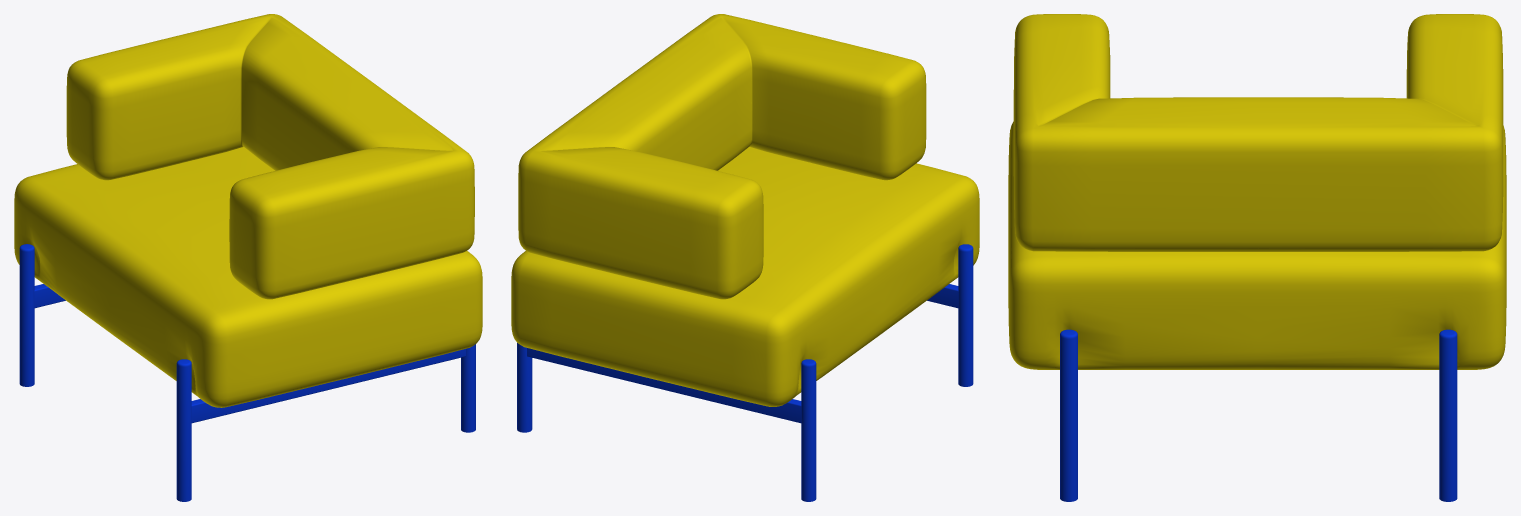
The model's file is Short Sofa.fbx.
The picture shows the model from 3 angles, left to right: view 1: azimuth 30°, elevation 25°; view 2: azimuth 150°, elevation 25°; view 3: azimuth 270°, elevation 25°; orthographic projection. The views are drawn at different scales.
Parts seen in each view (by area): view 1: sofa1_.001; view 2: sofa1_.001; view 3: sofa1_.001.
Boxes of the visible parts, x1,y1,x2,y2 form: sofa1_.001: (14, 14, 482, 501); sofa1_.001: (511, 14, 979, 501); sofa1_.001: (1008, 14, 1506, 501).
Bounding box in the file's own units: 101 × 96.17 × 122.
